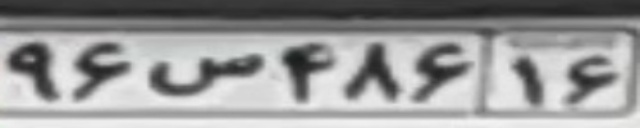1: (509, 53, 545, 103)
4: (284, 39, 329, 101)
6: (405, 41, 476, 104), (69, 42, 132, 101), (559, 53, 617, 103)
8: (341, 40, 398, 102)
9: (7, 39, 60, 101)
sin: (149, 50, 265, 98)
